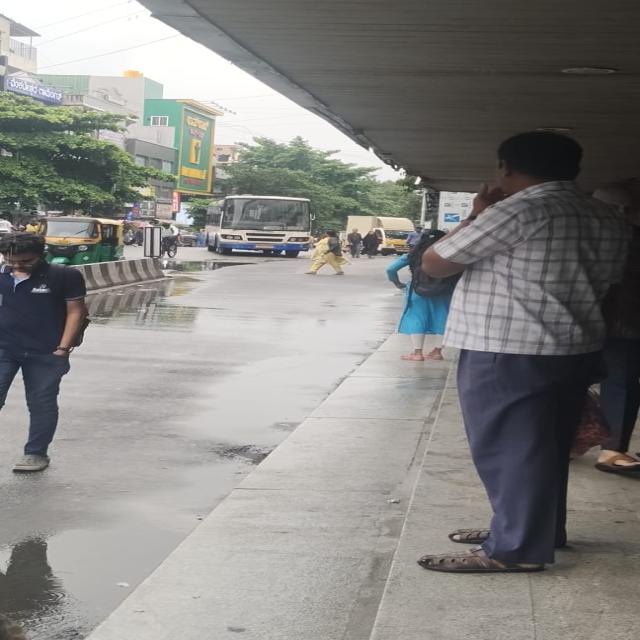bus: (205, 193, 313, 256)
